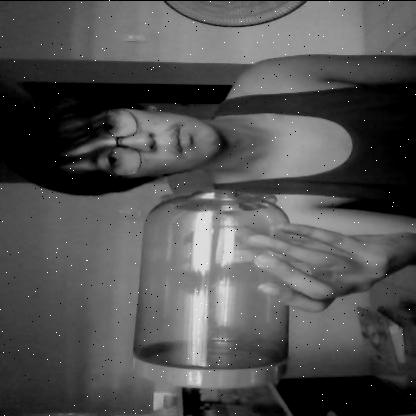Plastic Bottle: (115, 182, 298, 384)
